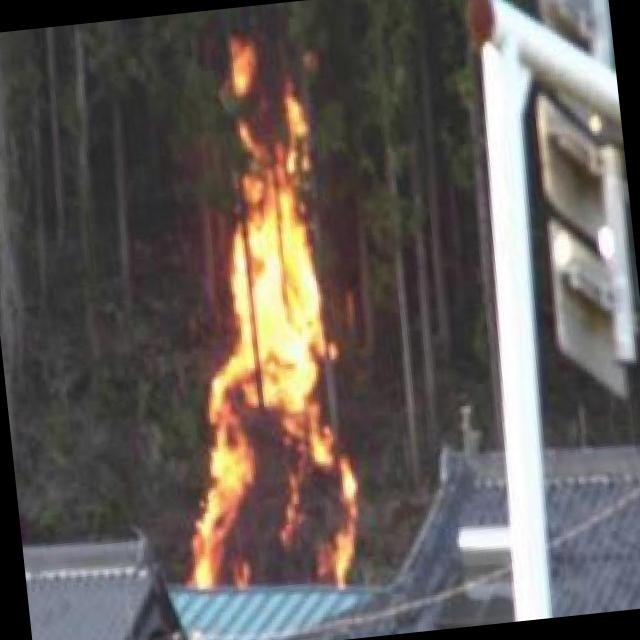Fire: (194, 42, 368, 594)
